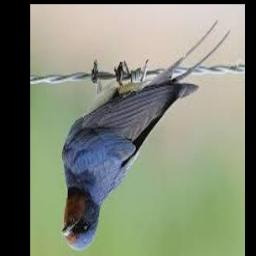Swallow: (61, 20, 231, 251)
